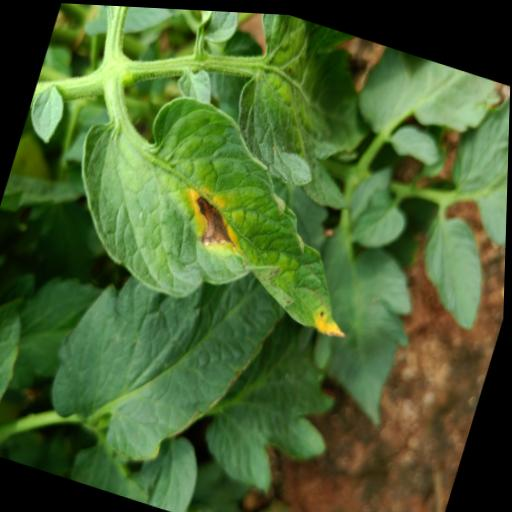Early Blight: (47, 62, 404, 354)
